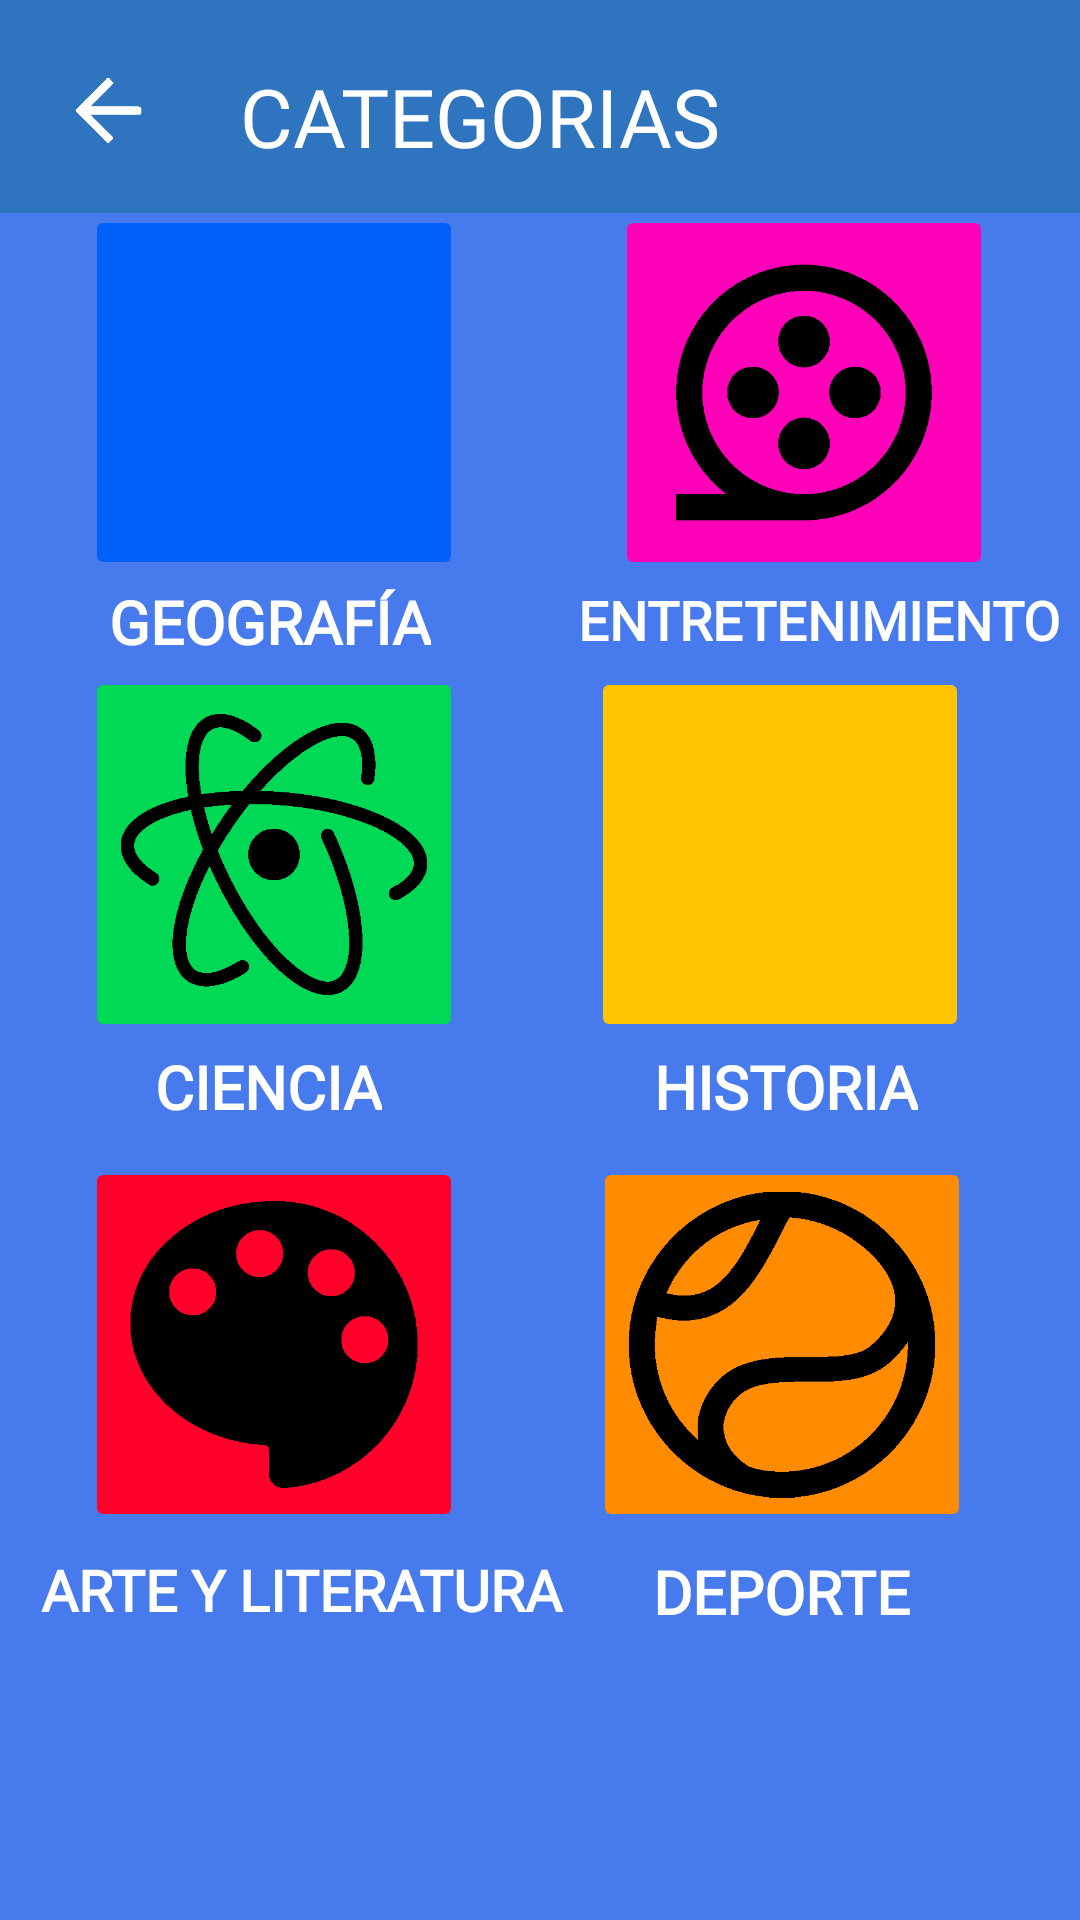

Named icons in this screenshot (1080*1920) and their centers, point (x, y):
flecha: point (108, 110)
paleta: point (274, 1344)
